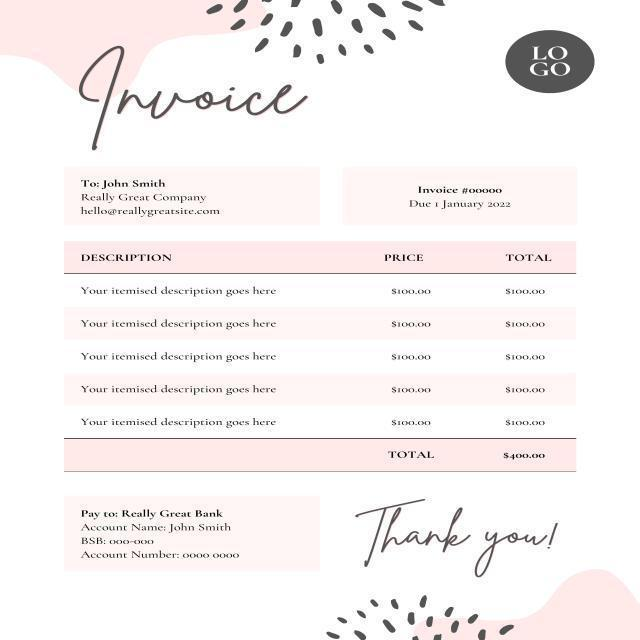ROI: (67, 240, 562, 436), (74, 39, 319, 155), (344, 493, 564, 583), (74, 502, 258, 564), (70, 170, 240, 221), (380, 439, 562, 467), (400, 179, 532, 213), (520, 36, 576, 85)
